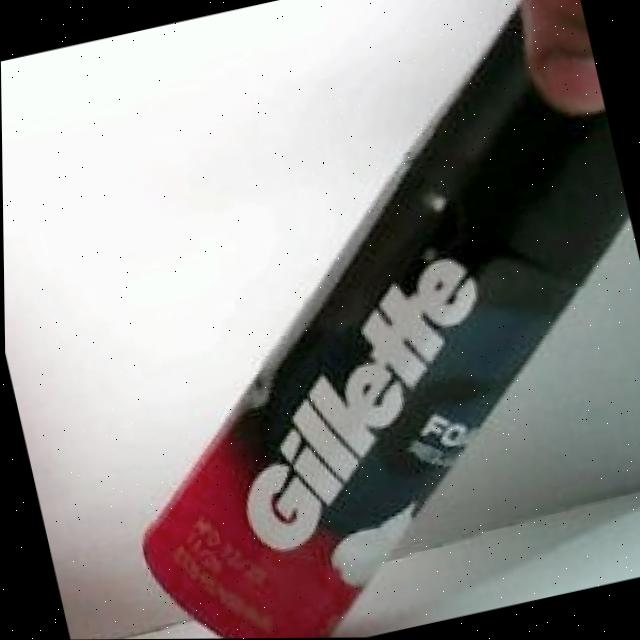gillette-foam: (139, 13, 628, 639)
